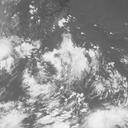cyclone: (42, 38, 88, 85)
